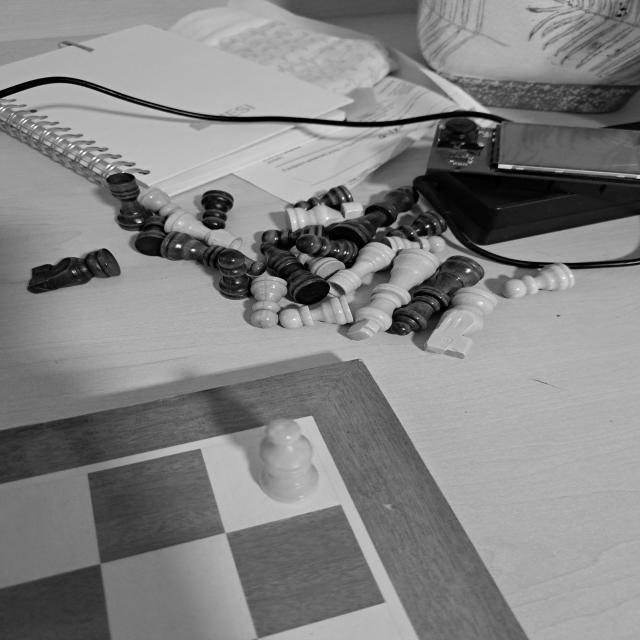chess-table-corners: (296, 405, 328, 428)
